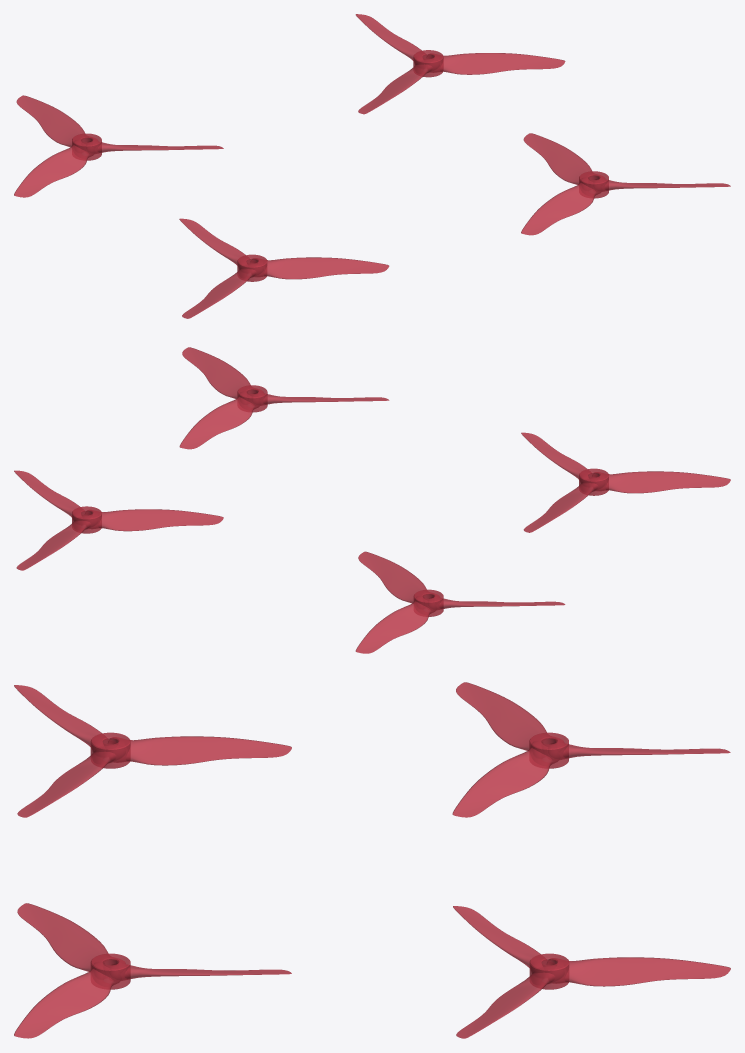
File: props.glb
3 renders of one model, top to bottom at view 1: azimuth 30°, elevation 25°; view 2: azimuth 150°, elevation 25°; view 3: azimuth 270°, elevation 25°, orthographic. The views are drawn at different scales.
Visible parts, largest first — view 1: Blade.003, Blade.004, Blade.002, Blade.001, Hub.004, Hub.001, Hub.002, Hub.003; view 2: Blade.003, Blade.004, Blade.002, Blade.001, Hub.004, Hub.001, Hub.002, Hub.003; view 3: Blade.004, Blade.003, Blade.002, Blade.001, Hub.001, Hub.004, Hub.002, Hub.003.
Boxes of the visible parts, x1,y1,x2,y2 form: Blade.003: (14, 95, 223, 197); Blade.004: (355, 14, 565, 114); Blade.002: (521, 133, 730, 235); Blade.001: (179, 218, 389, 318); Hub.004: (413, 50, 443, 77); Hub.001: (237, 254, 267, 281); Hub.002: (579, 171, 608, 198); Hub.003: (72, 133, 101, 160); Blade.003: (355, 551, 565, 653); Blade.004: (14, 470, 223, 570); Blade.002: (179, 347, 389, 449); Blade.001: (521, 432, 730, 532); Hub.004: (72, 506, 101, 533); Hub.001: (579, 468, 608, 495); Hub.002: (237, 385, 267, 412); Hub.003: (413, 589, 443, 616); Blade.004: (453, 906, 730, 1038); Blade.003: (452, 682, 730, 817); Blade.002: (14, 903, 291, 1038); Blade.001: (14, 685, 291, 817); Hub.001: (90, 732, 130, 768); Hub.004: (529, 953, 569, 989); Hub.002: (90, 953, 130, 989); Hub.003: (529, 732, 568, 768).
Bounding box in the file's own units: 2.79 × 0.0727 × 2.37.
